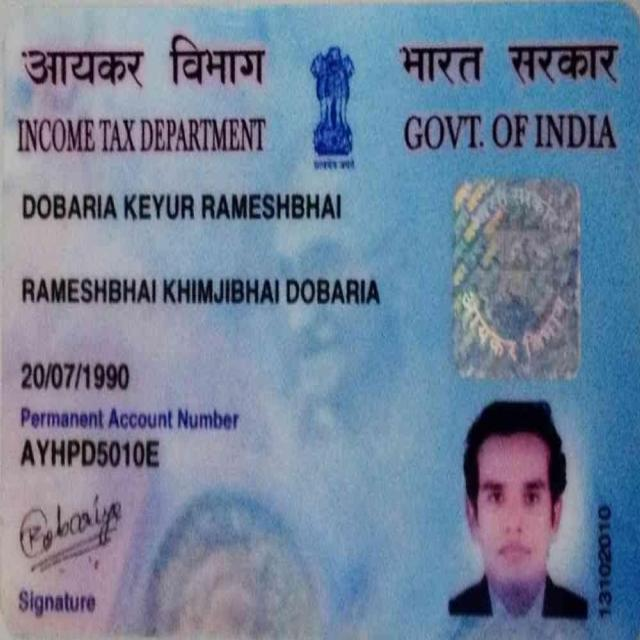pan_card: (0, 1, 640, 640)
